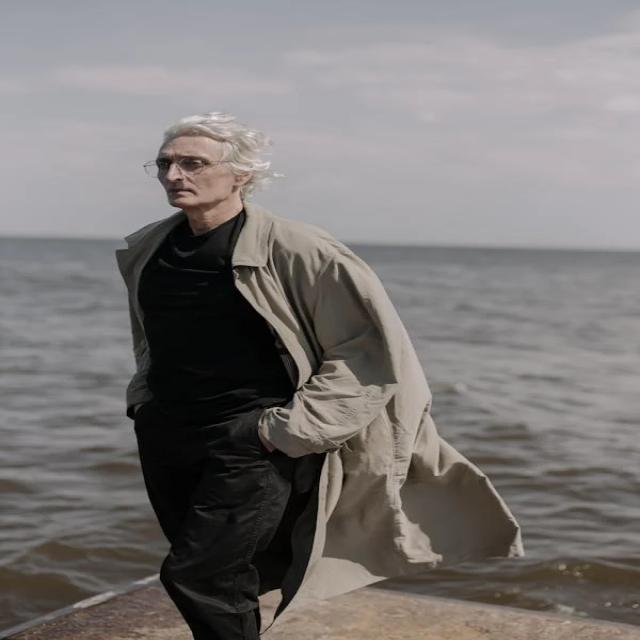Real human 2: (92, 101, 499, 640)
